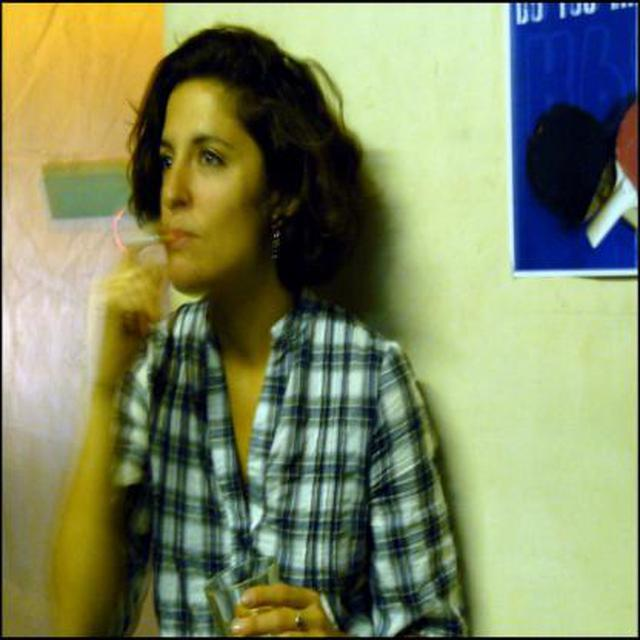smoking: (120, 234, 176, 248)
